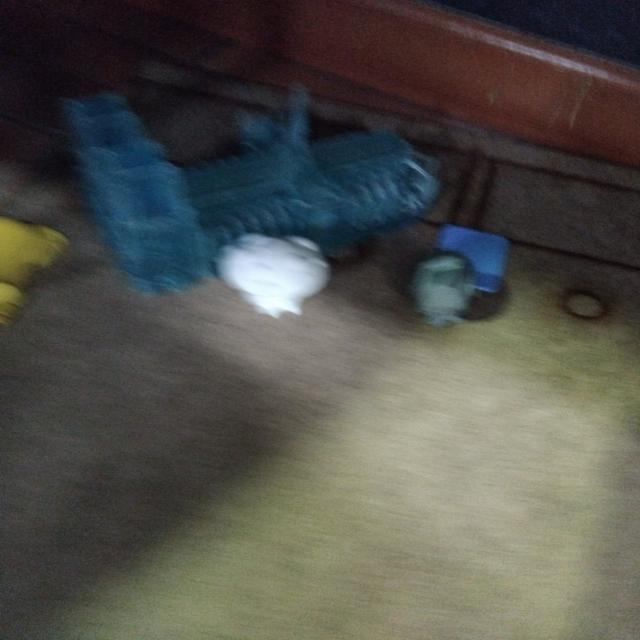Hongo: (208, 224, 336, 324)
